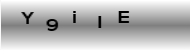9: (44, 18, 59, 32)
E: (117, 10, 130, 24)
Y: (20, 10, 35, 24)
i: (71, 9, 77, 24)
l: (96, 14, 102, 29)
